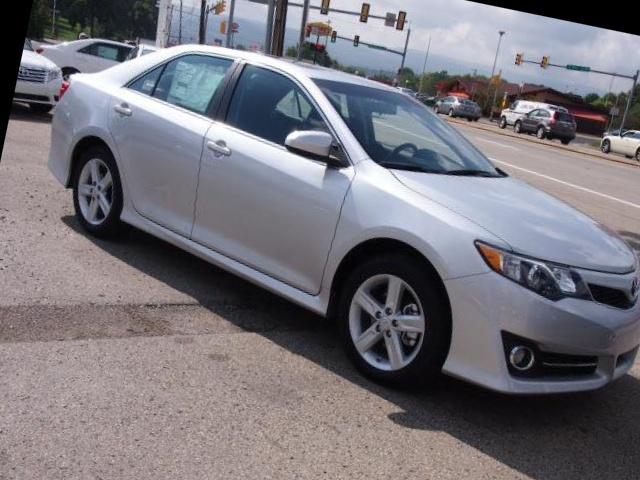car: (0, 1, 640, 467), (511, 84, 586, 158), (590, 110, 640, 183), (431, 82, 500, 126)
